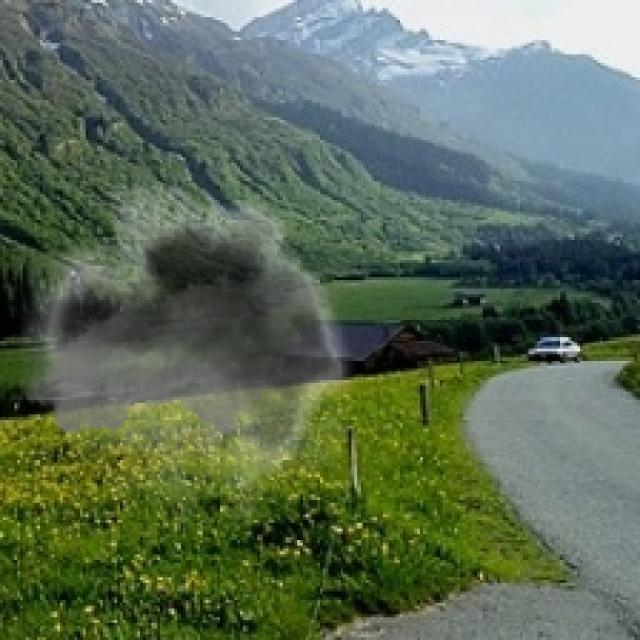smoke: (20, 163, 369, 531)
